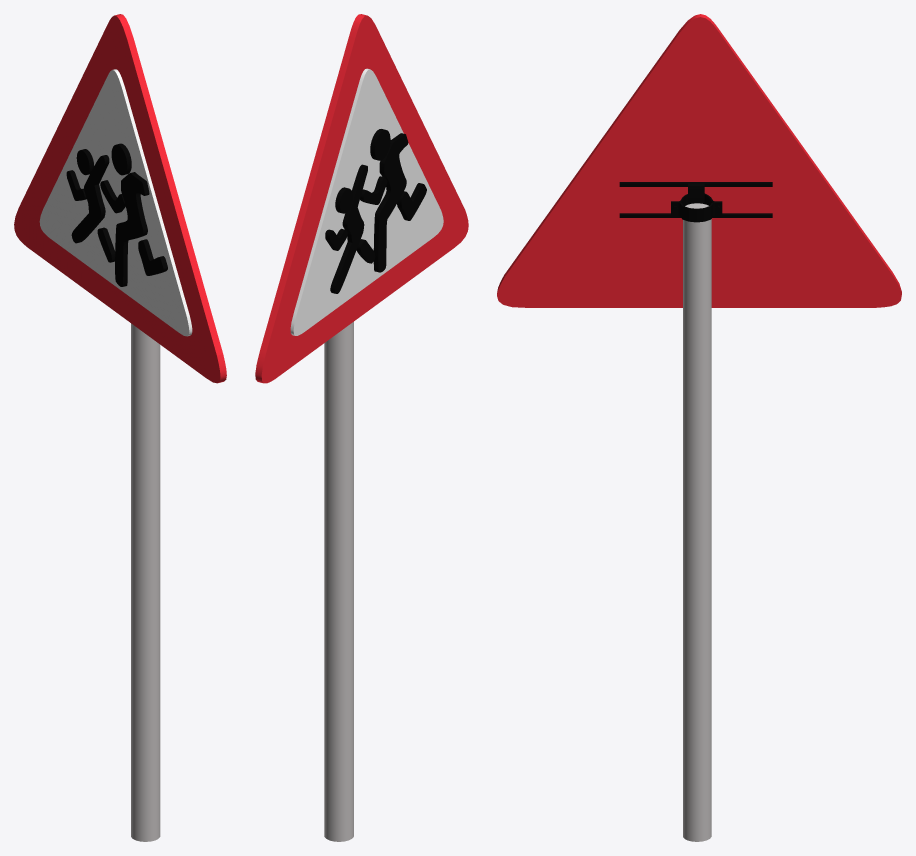
File: school.obj
The picture shows the model from 3 angles, left to right: view 1: azimuth 30°, elevation 25°; view 2: azimuth 150°, elevation 25°; view 3: azimuth 270°, elevation 25°; orthographic projection. The views are drawn at different scales.
Visible parts, largest first — view 1: Line004, Cylinder002, object 2, Circle001; view 2: Line004, Cylinder002, object 2, Circle001; view 3: Line004, Cylinder002, object 3.
Part boxes in pixels (x1,y1,x2,y2): Line004: (14, 14, 226, 383); Cylinder002: (131, 323, 160, 841); object 2: (39, 69, 192, 336); Circle001: (66, 143, 167, 286); Line004: (255, 14, 468, 383); Cylinder002: (324, 322, 353, 841); object 2: (290, 68, 443, 335); Circle001: (325, 129, 426, 293); Line004: (497, 14, 901, 307); Cylinder002: (683, 203, 711, 841); object 3: (619, 182, 772, 222).
Size of the model in its own units: 19.09 by 300 by 136.
4 materials, 4 textured.
